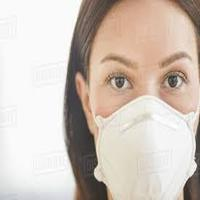flu mask: (79, 93, 200, 199)
